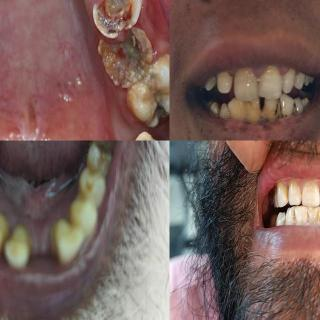Gum Swelling: (250, 63, 268, 78), (277, 61, 290, 77), (226, 67, 238, 78)
calculus: (245, 100, 261, 123), (229, 102, 247, 120), (263, 100, 276, 122)
cavities: (134, 80, 170, 130)
plaque: (257, 66, 285, 100), (235, 66, 259, 94)
stains: (76, 161, 104, 202), (93, 141, 113, 171), (269, 98, 283, 120), (279, 98, 291, 120), (305, 208, 319, 224), (292, 98, 302, 115), (0, 210, 6, 238), (291, 210, 299, 222), (317, 208, 320, 226)
